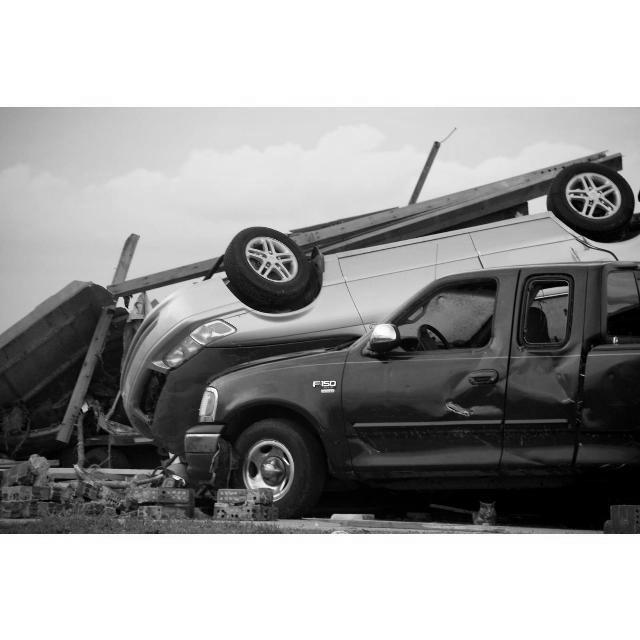doorouter-dent: (402, 333, 506, 460), (513, 341, 580, 457)
